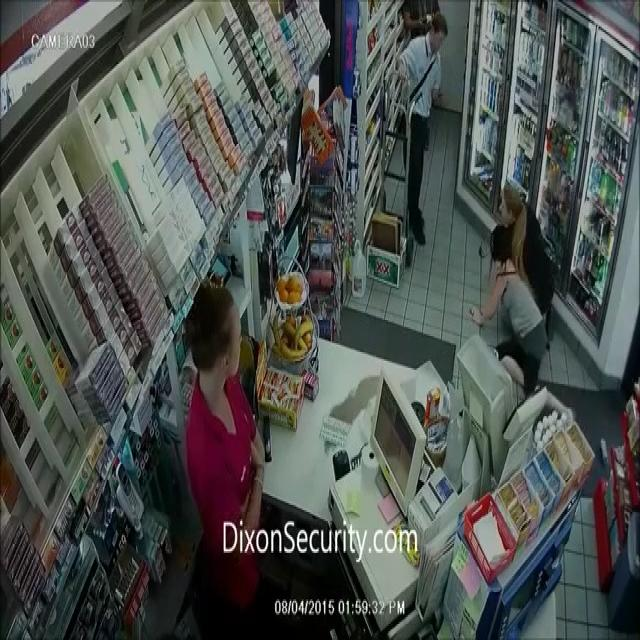fight: (468, 178, 558, 397)
